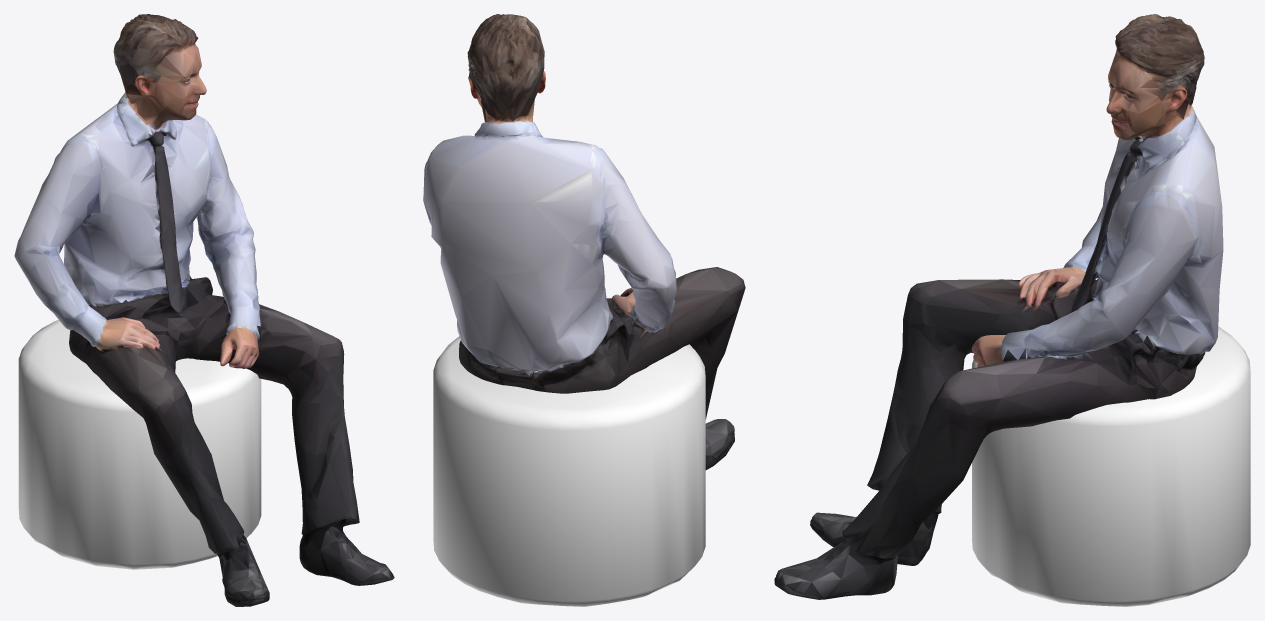
The model's file is ren8.gltf.
The picture shows the model from 3 angles, left to right: view 1: azimuth 30°, elevation 25°; view 2: azimuth 150°, elevation 25°; view 3: azimuth 270°, elevation 25°; orthographic projection. The views are drawn at different scales.
Parts seen in each view (by area): view 1: Obj3d66-515503-6-420, Obj3d66-515503-26-808; view 2: Obj3d66-515503-6-420, Obj3d66-515503-26-808; view 3: Obj3d66-515503-6-420, Obj3d66-515503-26-808.
Part boxes in pixels (x1=…): Obj3d66-515503-6-420: x1=14, y1=14, x2=394, y2=606; Obj3d66-515503-26-808: x1=18, y1=320, x2=261, y2=569; Obj3d66-515503-6-420: x1=423, y1=14, x2=745, y2=469; Obj3d66-515503-26-808: x1=433, y1=336, x2=705, y2=606; Obj3d66-515503-6-420: x1=774, y1=14, x2=1223, y2=599; Obj3d66-515503-26-808: x1=972, y1=326, x2=1250, y2=606.
Size of the model in its own units: 7.04 by 13.49 by 10.47.
2 materials, 1 textured.
